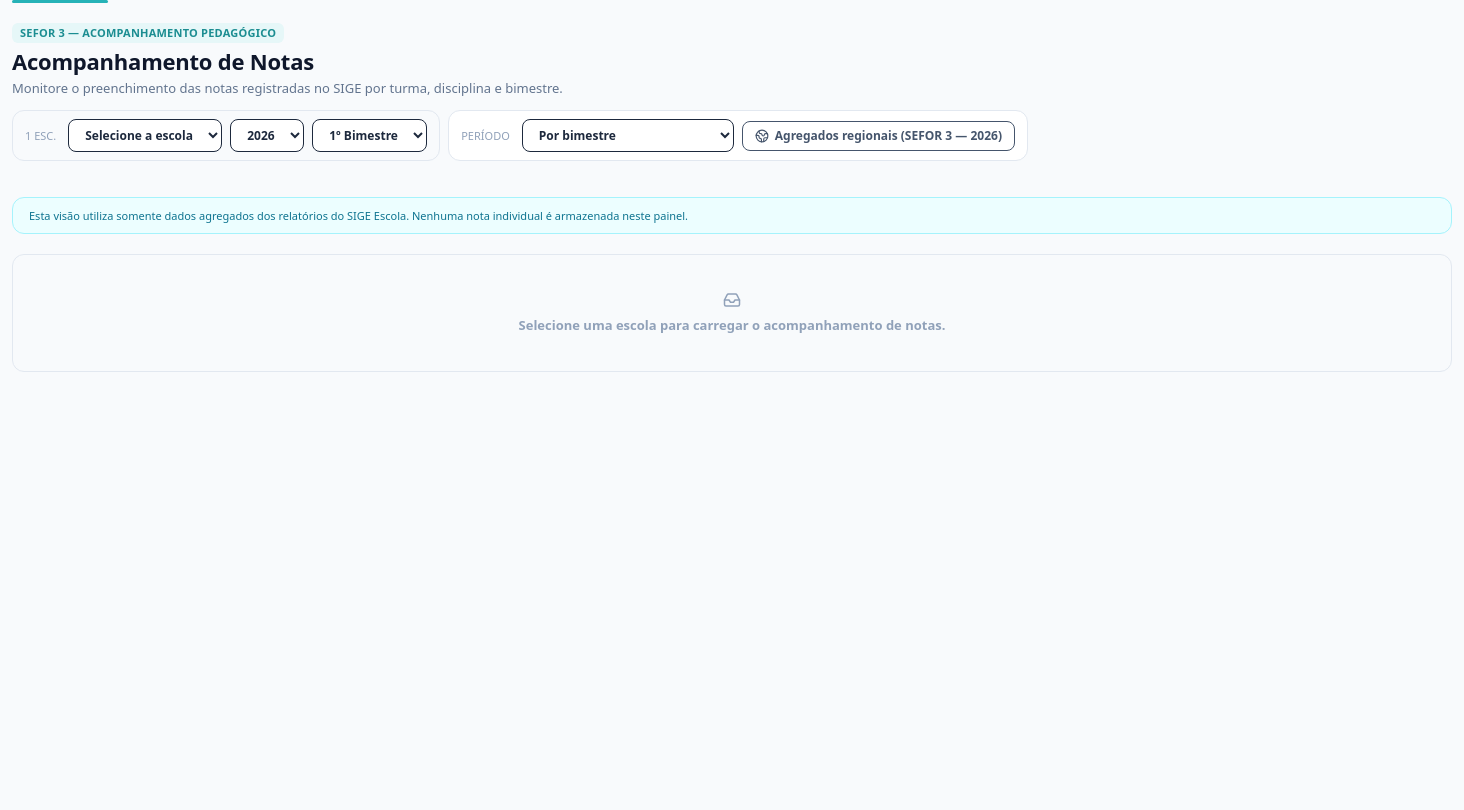
Scenario: NotasView › proteção contra contexto obsoleto (seção 4 do code review do PR #17) › trocar o ano letivo nunca mostra o relatório do ano anterior enquanto o novo carrega
Select "EEM Diva Cabral" in the dropdown named "Escola" at (145, 136), box [68,119,222,152]
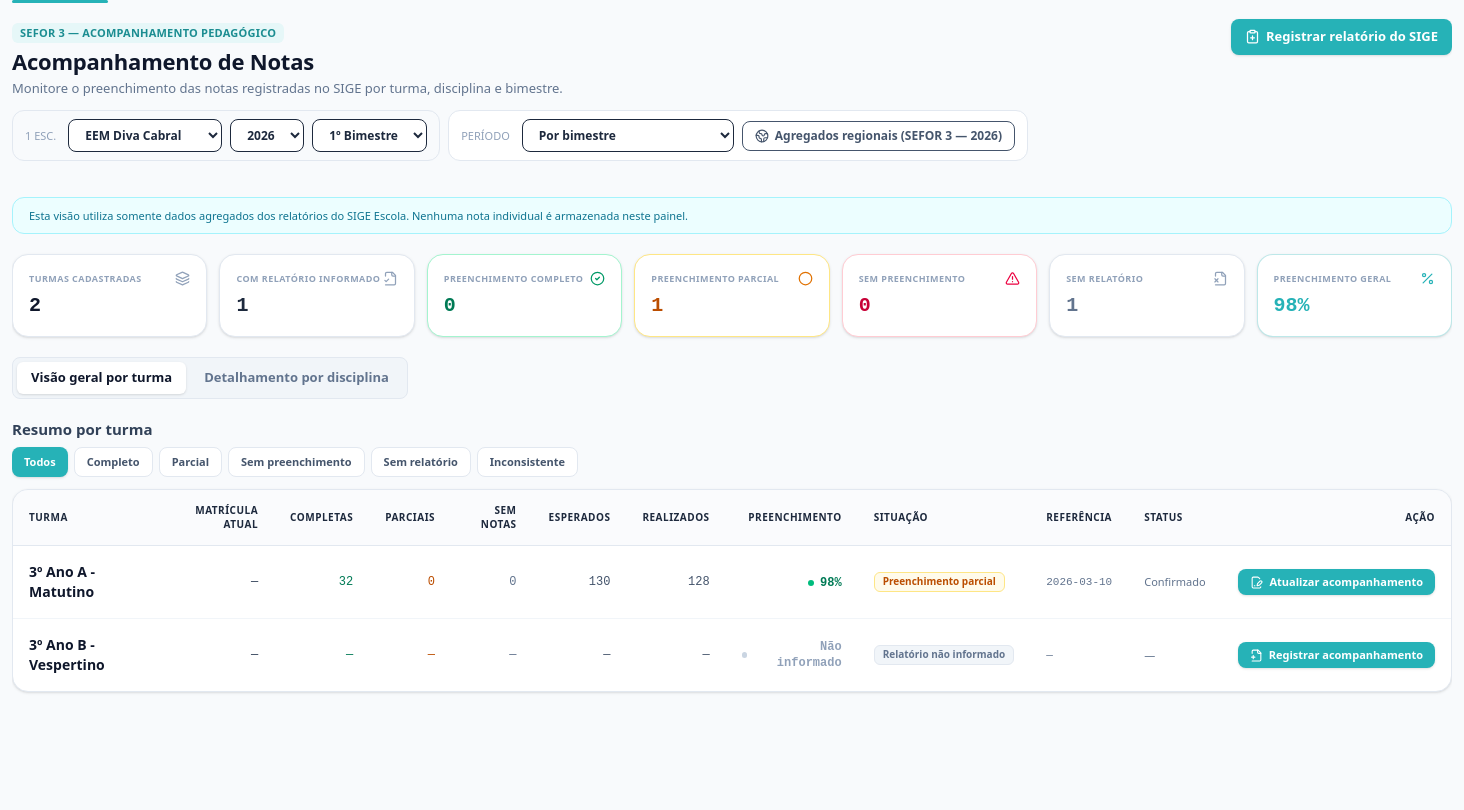
Check: the text "128" is shown, box [626,546,726,619]
Select "2025" in the dropdown named "Ano letivo" at (267, 136), box [230,119,304,152]
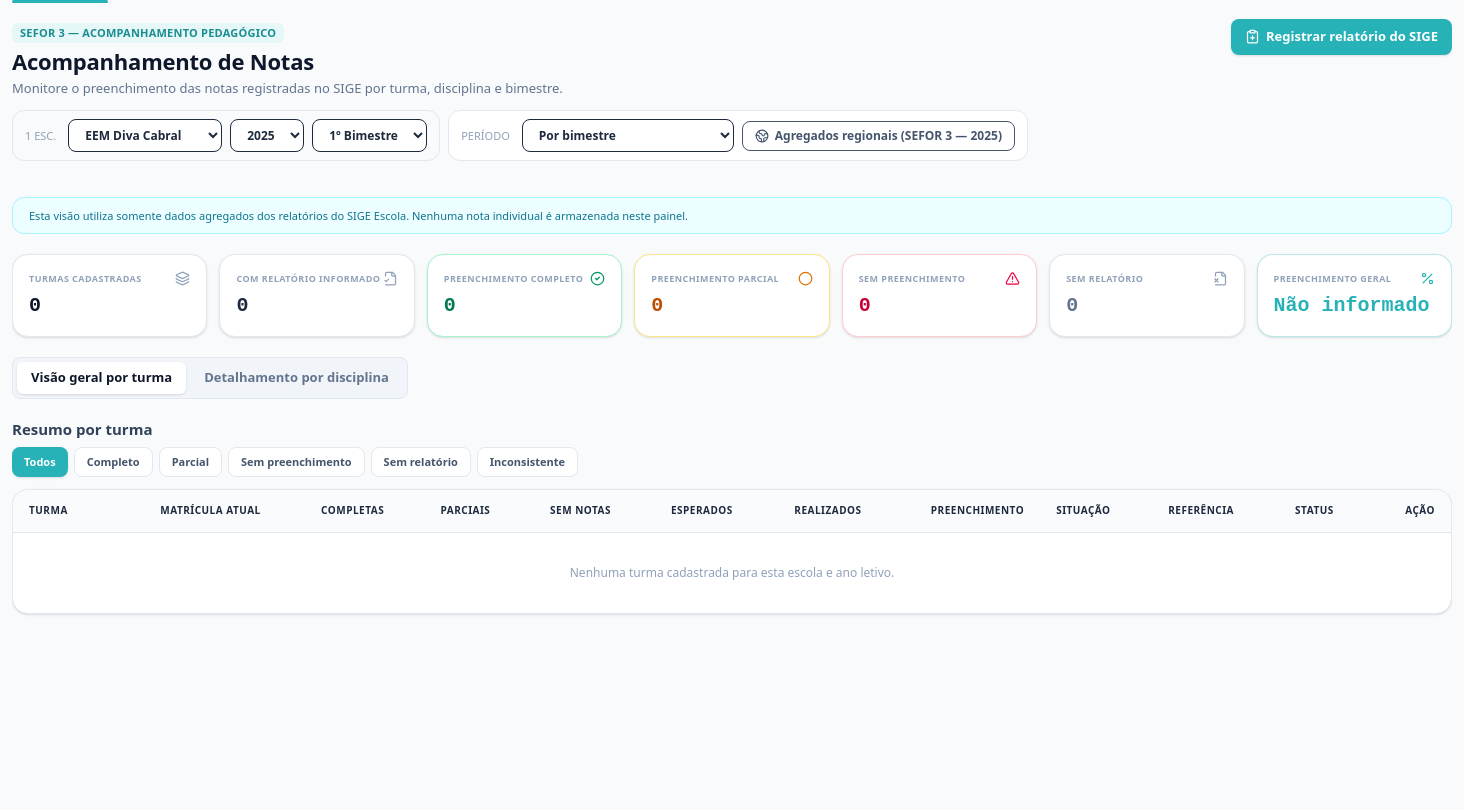
Check: the text "128" is gone
Check: the text "Carregando turmas..." is shown, box [13,532,1451,613]
